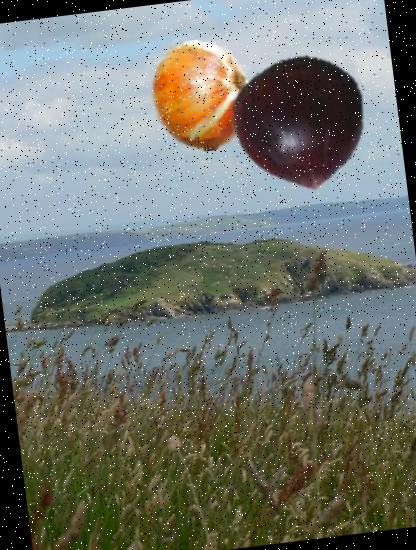Chestnut: (221, 47, 374, 200)
Onion: (140, 33, 264, 158)
